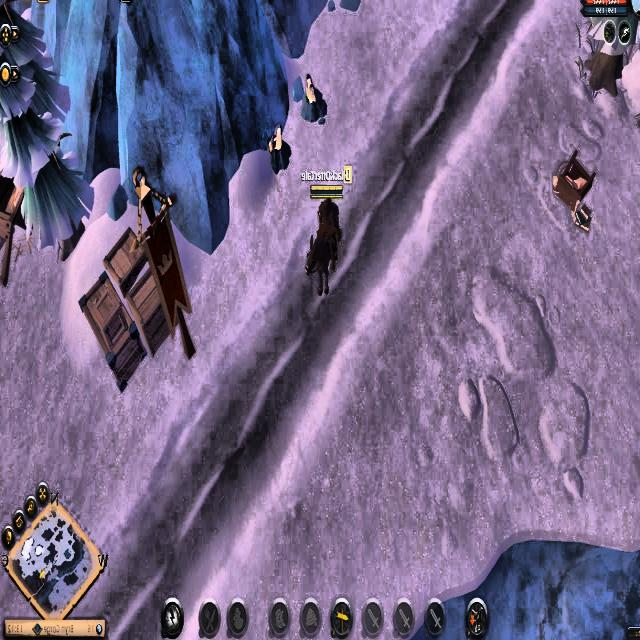copperore: (300, 68, 328, 126), (266, 122, 294, 172)
